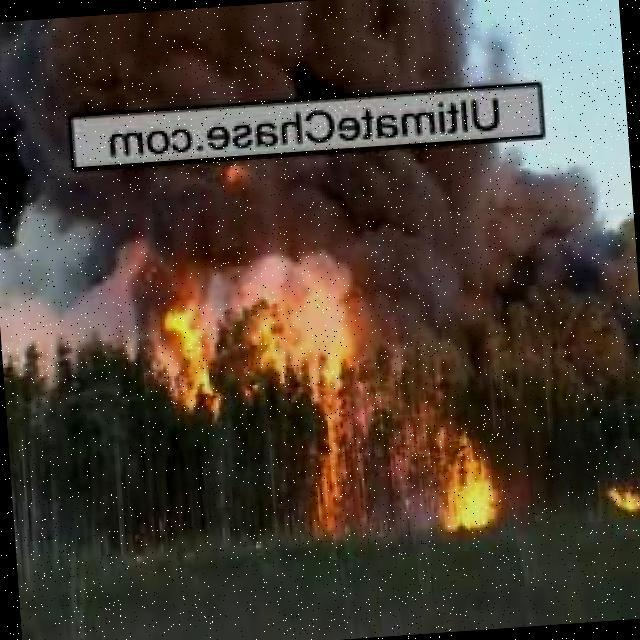Fire: (304, 337, 367, 542), (144, 268, 230, 415), (435, 416, 502, 527), (605, 480, 640, 514)
